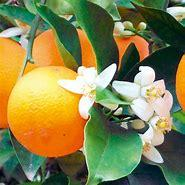orange: (0, 62, 98, 157)
